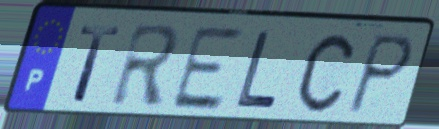C: (295, 31, 356, 115)
E: (166, 24, 246, 113)
L: (232, 29, 281, 113)
P: (343, 32, 418, 117)
R: (106, 21, 186, 109)
T: (70, 23, 124, 105)
